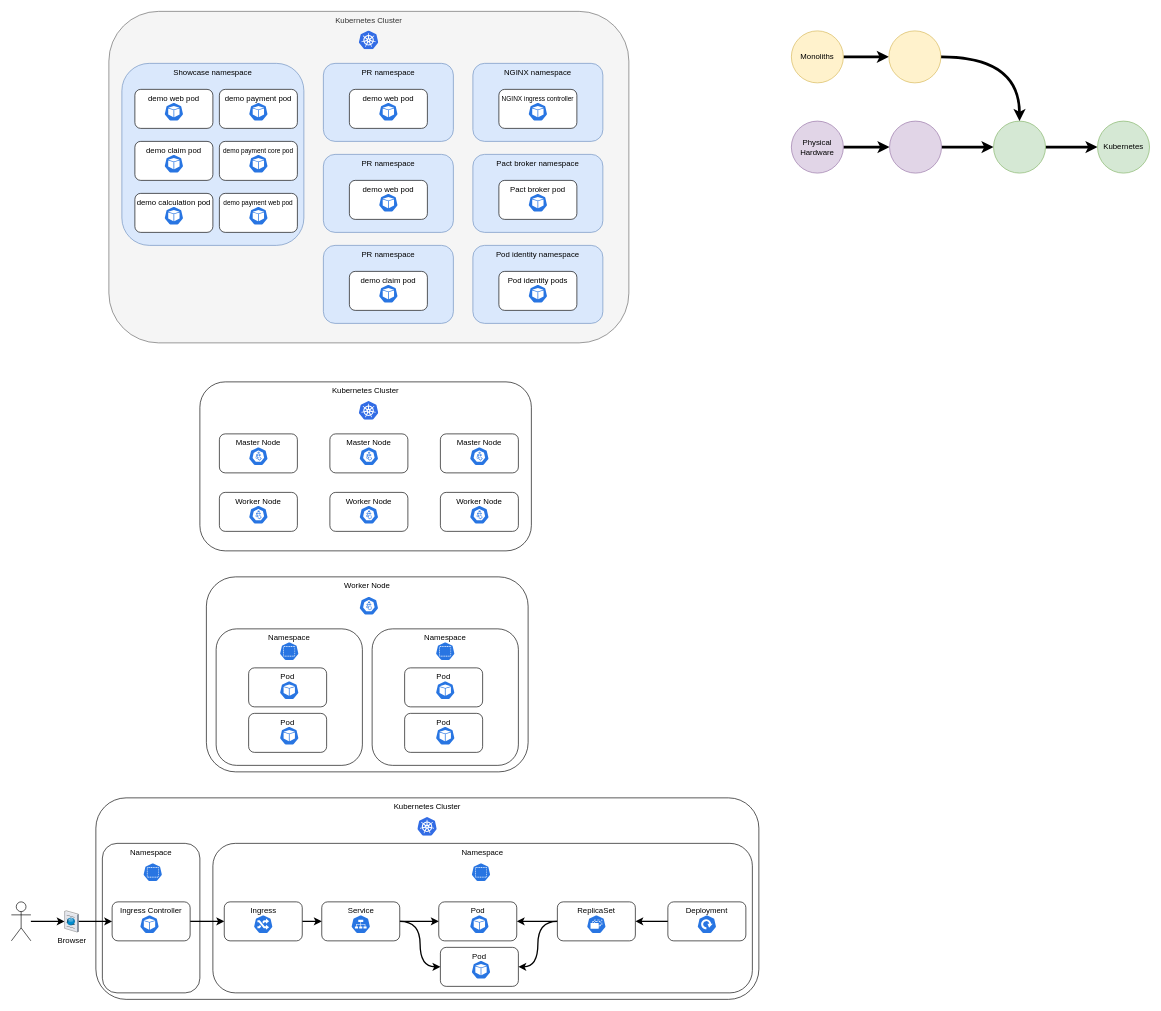
The diagram is 1161 pixels wide and 1011 high, and some of its shapes have lost their labels. The shapes that lost their labels are listed below. From the top down, each one's centre as x and y in pixels, then its label:
the point at 914,56: Microservices
the point at 915,146: Virtual Machines
the point at 1019,146: Docker
the point at 21,921: User
